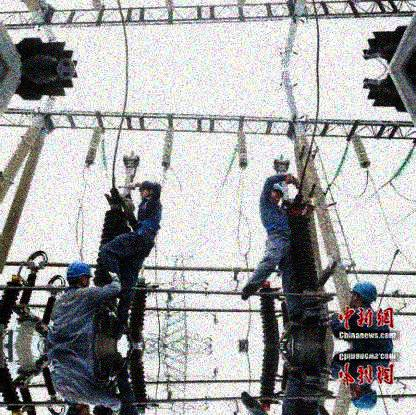helmet: (348, 279, 378, 308), (64, 261, 92, 286), (270, 186, 283, 203), (139, 181, 151, 196)
